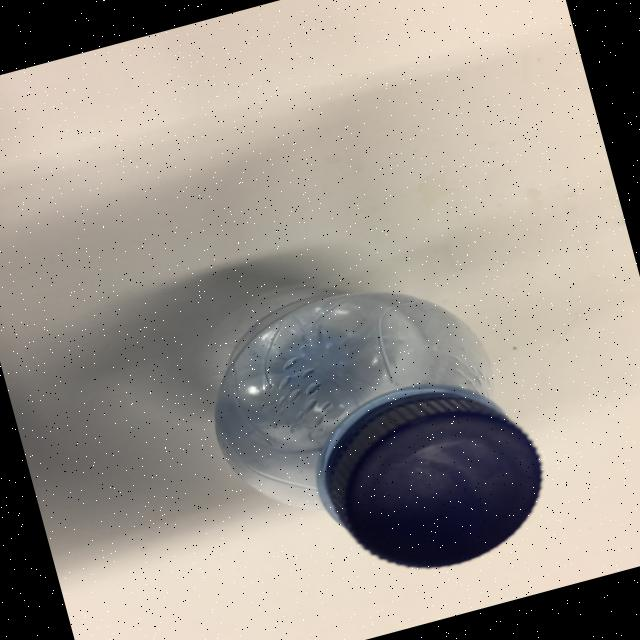plastic: (185, 248, 562, 616)
